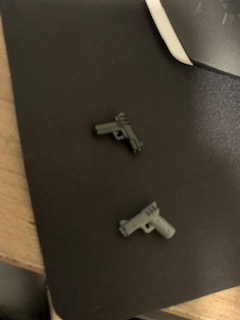pistol: (115, 200, 177, 246), (88, 109, 145, 158)
